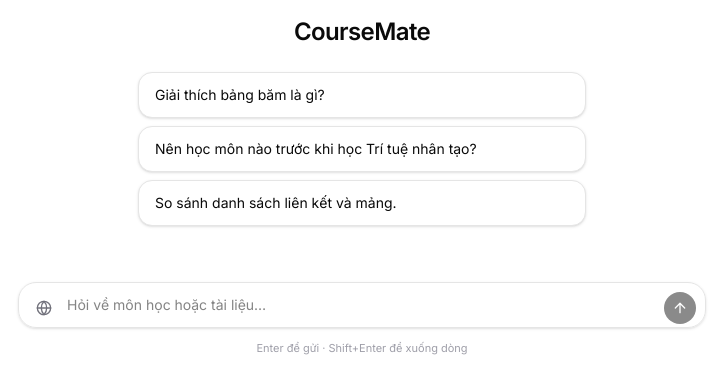
Test: ChatPage streaming › shows the question immediately, then settles on the persisted answer
Type "bảng băm là gì?" into the text box with placeholder "Hỏi về môn học hoặc tài liệu…".
click(362, 305); type("bảng băm là gì?")  # box [18,282,706,328]
Then press Enter
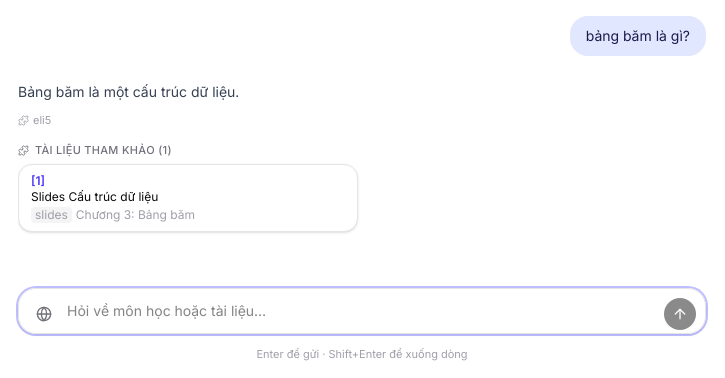
Now the text "Tài liệu tham khảo (1)" is shown, box [35,142,172,158]
Now the text "eli5" is shown, box [18,113,51,127]
